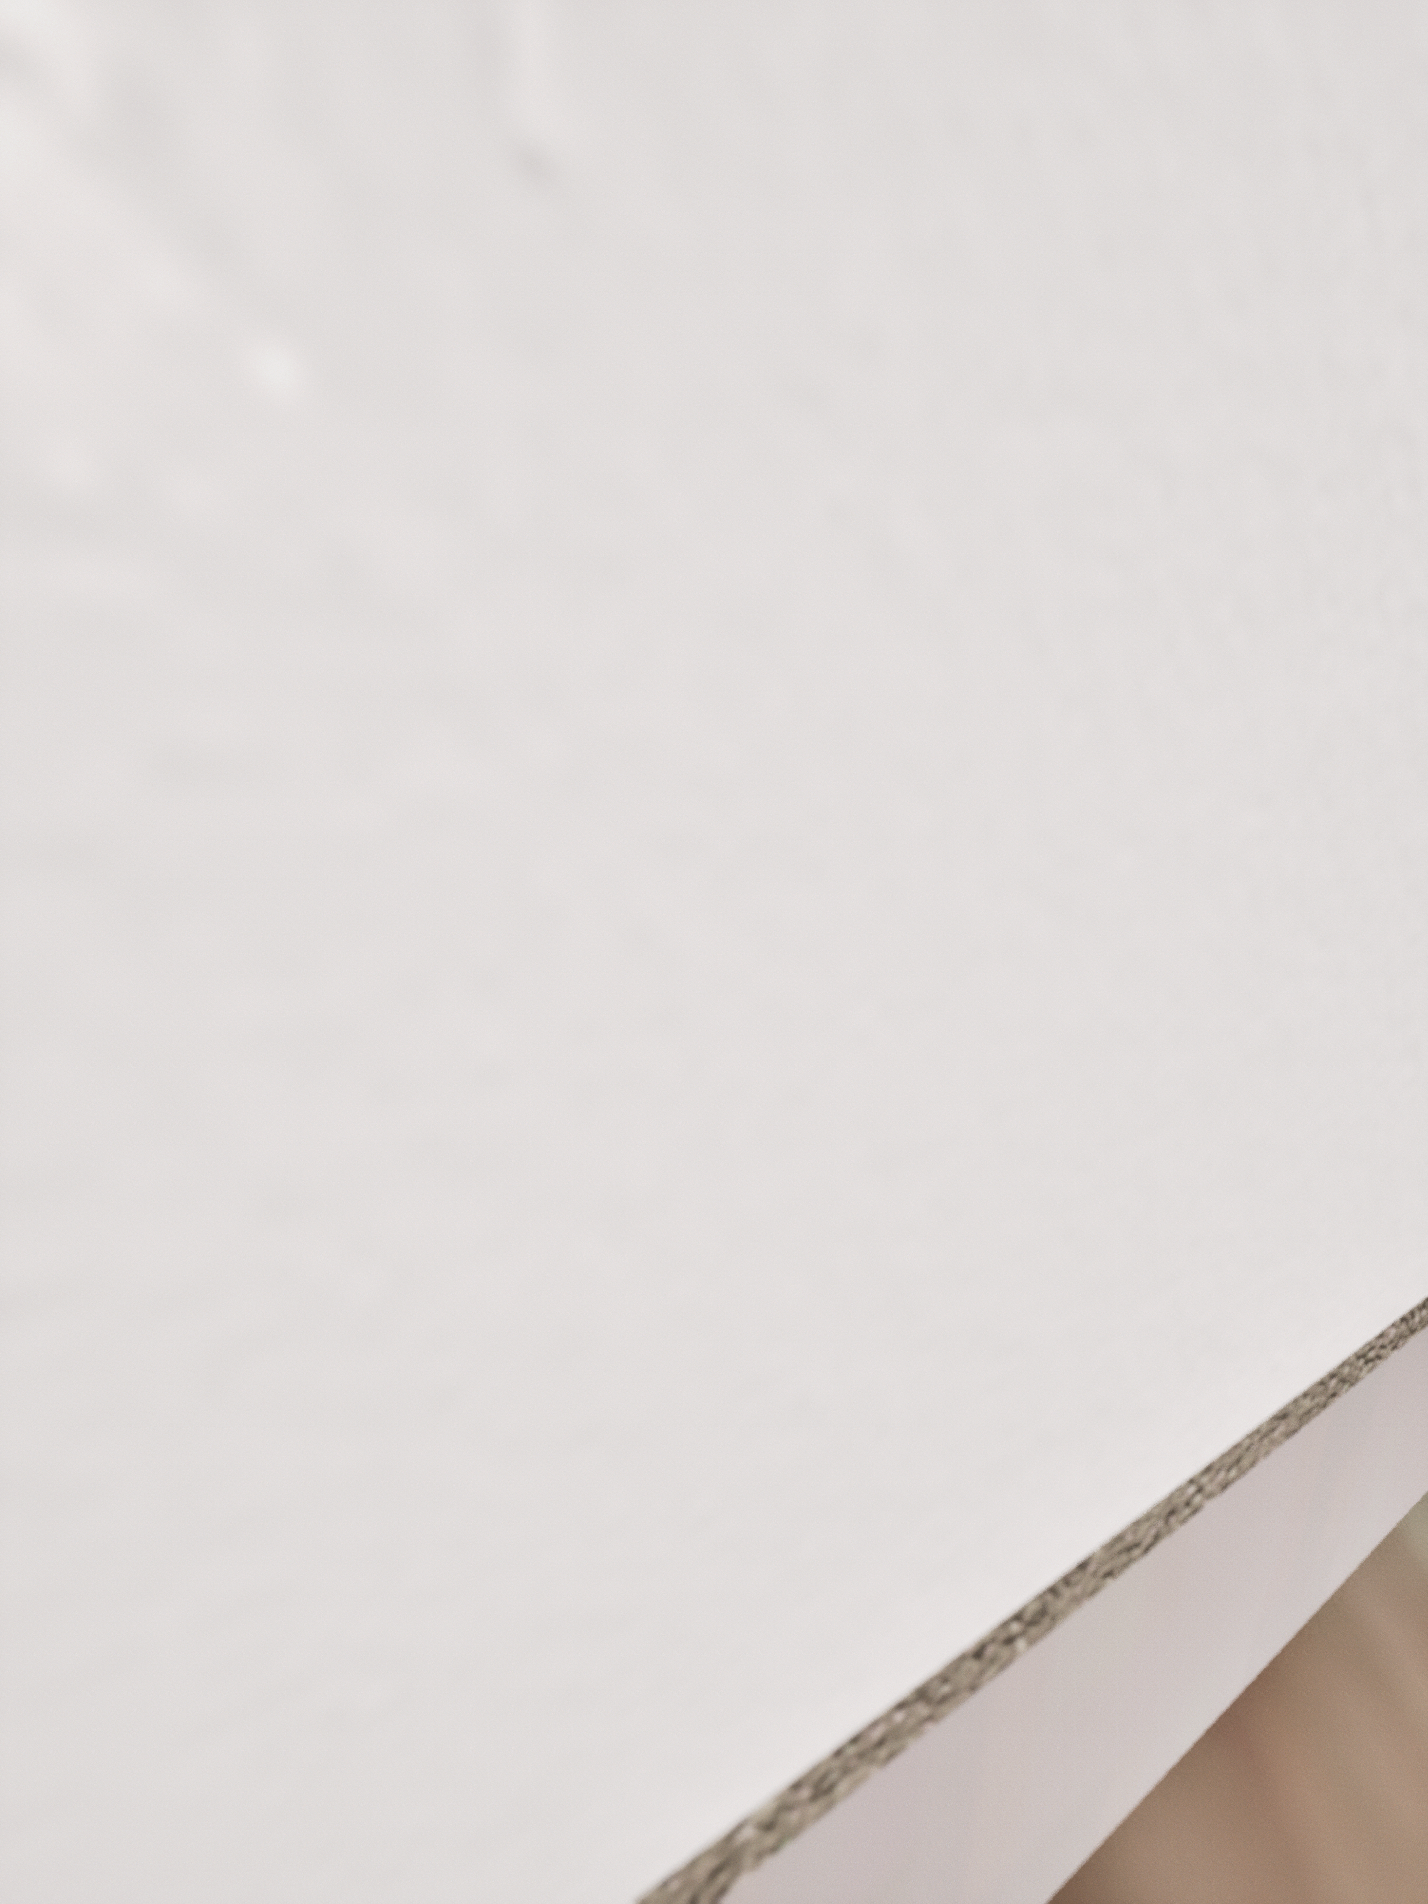cheerios: (412, 717, 949, 862)
